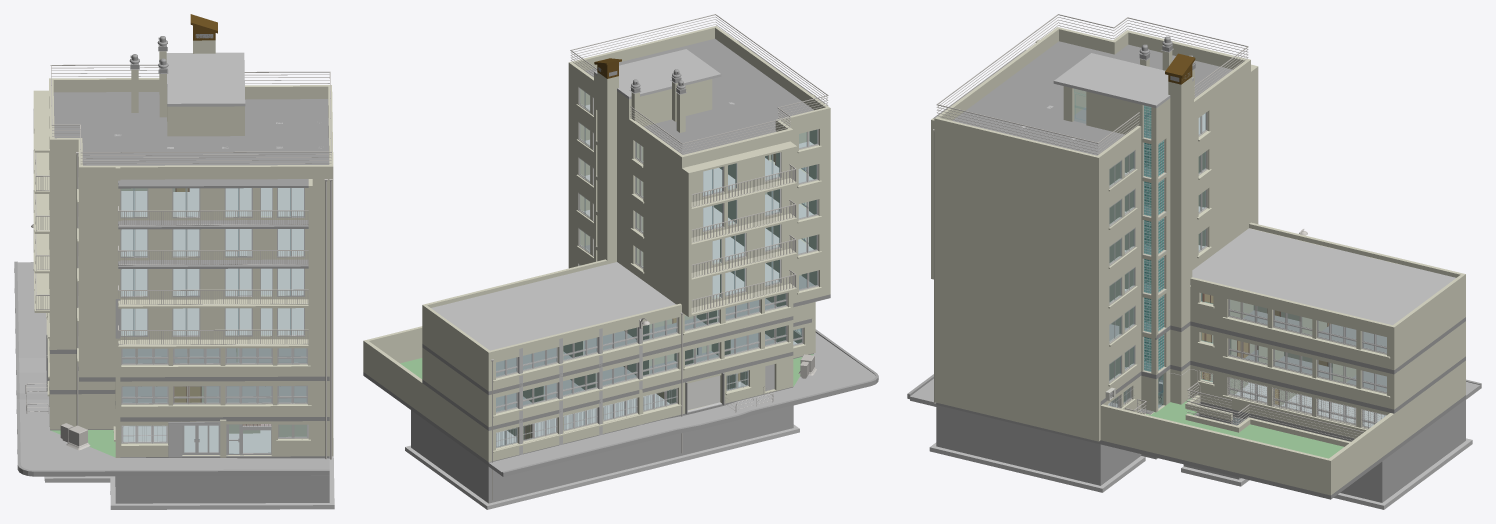
The picture shows the model from 3 angles, left to right: view 1: azimuth 30°, elevation 25°; view 2: azimuth 150°, elevation 25°; view 3: azimuth 270°, elevation 25°; orthographic projection. The views are drawn at different scales.
Visible parts, largest first — view 1: 2bFMCFmkj1kfWO5Lvqt__E, 1zCZNx5CT1i8Y9$_dU9fMm, 0dWoULYUH3zPg8qJ$TnRTP, 0dWoULYUH3zPg8qJhTnRTP, 0dWoULYUH3zPg8qJpTnRTP, 0dWoULYUH3zPg8qJtTnRTP, 0dWoULYUH3zPg8sJxTnRgm, 0dWoULYUH3zPg8qJlTnRTP, 313IdYHbv0JwPbnB6B727$, 0JJqPutQD7fgEmZfe5WIOV, 0dWoULYUH3zPg8qJZTnRTP, 04Zj82bz96WhfKErdD6QSF (+77 smaller); view 2: 1IQJpSU49DlPKPMYhdab44, 2bFMCFmkj1kfWO5Lvqt__E, 1T2hYTZj1EsBZaf4hQmbXu, 3RLTfSMBXE_BWgA7WbvgjJ, 04Zj82bz96WhfKErdD6QSF, 1T2hYTZj1EsBZaf4hQmbWV, 313IdYHbv0JwPbnB6B727$, 0JJqPutQD7fgEmZfe5WIOV, 2QdDmV0TrDCeyB2Uhxt6rB, 34YWoH0WT4GQc$ARBHEUIX, 0dWoULYUH3zPg8sJxTnRUj, 0JJqPutQD7fgEmZfq5WIOV (+66 smaller); view 3: 1IQJpSU49DlPKPMYhdab44, 2bFMCFmkj1kfWO5Lvqt__E, 3RLTfSMBXE_BWgA7Wbvgs$, 1zCZNx5CT1i8Y9$_dU9fLy, 321EIHH0v8KOO2s9NjdAGp, 321EIHH0v8KOO2s9RjdAGp, 321EIHH0v8KOO2s93jdAGp, 321EIHH0v8KOO2s97jdAGp, 321EIHH0v8KOO2s9JjdAGp, 321EIHH0v8KOO2s9FjdAGp, 321EIHH0v8KOO2s9BjdAGp, 3RLTfSMBXE_BWgA7WbvgjJ (+44 smaller).
Part boxes in pixels (<box>): 2bFMCFmkj1kfWO5Lvqt__E: <box>53,92,329,165</box>; 1zCZNx5CT1i8Y9$_dU9fMm: <box>115,476,325,503</box>; 0dWoULYUH3zPg8qJ$TnRTP: <box>83,337,329,377</box>; 0dWoULYUH3zPg8qJhTnRTP: <box>83,218,329,258</box>; 0dWoULYUH3zPg8qJpTnRTP: <box>83,297,329,337</box>; 0dWoULYUH3zPg8qJtTnRTP: <box>83,258,329,298</box>; 0dWoULYUH3zPg8sJxTnRgm: <box>120,381,329,417</box>; 0dWoULYUH3zPg8qJlTnRTP: <box>83,179,329,219</box>; 313IdYHbv0JwPbnB6B727$: <box>166,52,245,106</box>; 0JJqPutQD7fgEmZfe5WIOV: <box>19,399,115,470</box>; 0dWoULYUH3zPg8qJZTnRTP: <box>83,165,329,179</box>; 04Zj82bz96WhfKErdD6QSF: <box>50,64,331,164</box>; 1IQJpSU49DlPKPMYhdab44: <box>431,262,675,350</box>; 2bFMCFmkj1kfWO5Lvqt__E: <box>585,38,813,154</box>; 1T2hYTZj1EsBZaf4hQmbXu: <box>491,405,793,502</box>; 3RLTfSMBXE_BWgA7WbvgjJ: <box>365,341,486,460</box>; 04Zj82bz96WhfKErdD6QSF: <box>570,14,828,153</box>; 1T2hYTZj1EsBZaf4hQmbWV: <box>411,410,491,503</box>; 313IdYHbv0JwPbnB6B727$: <box>594,49,721,99</box>; 0JJqPutQD7fgEmZfe5WIOV: <box>738,348,875,410</box>; 2QdDmV0TrDCeyB2Uhxt6rB: <box>642,282,790,353</box>; 34YWoH0WT4GQc$ARBHEUIX: <box>496,245,814,376</box>; 0dWoULYUH3zPg8sJxTnRUj: <box>422,309,486,389</box>; 0JJqPutQD7fgEmZfq5WIOV: <box>488,420,674,475</box>; 1IQJpSU49DlPKPMYhdab44: <box>1190,228,1455,325</box>; 2bFMCFmkj1kfWO5Lvqt__E: <box>952,41,1232,155</box>; 3RLTfSMBXE_BWgA7Wbvgs$: <box>1100,404,1332,495</box>; 1zCZNx5CT1i8Y9$_dU9fLy: <box>936,405,1102,485</box>; 321EIHH0v8KOO2s9NjdAGp: <box>934,324,1100,402</box>; 321EIHH0v8KOO2s9RjdAGp: <box>934,363,1100,441</box>; 321EIHH0v8KOO2s93jdAGp: <box>934,130,1100,208</box>; 321EIHH0v8KOO2s97jdAGp: <box>934,169,1100,247</box>; 321EIHH0v8KOO2s9JjdAGp: <box>934,285,1100,363</box>; 321EIHH0v8KOO2s9FjdAGp: <box>934,246,1100,324</box>; 321EIHH0v8KOO2s9BjdAGp: <box>934,208,1100,285</box>; 3RLTfSMBXE_BWgA7WbvgjJ: <box>1329,362,1463,493</box>.
Bounding box in the file's own units: 32.78 × 28.19 × 37.66.
